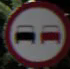No overtake: (9, 4, 65, 59)
